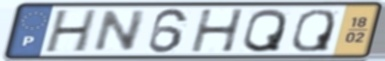6: (145, 6, 191, 55)
H: (42, 8, 101, 55), (189, 7, 247, 54)
N: (89, 8, 150, 53)
Q: (240, 7, 290, 54), (289, 8, 338, 54)
